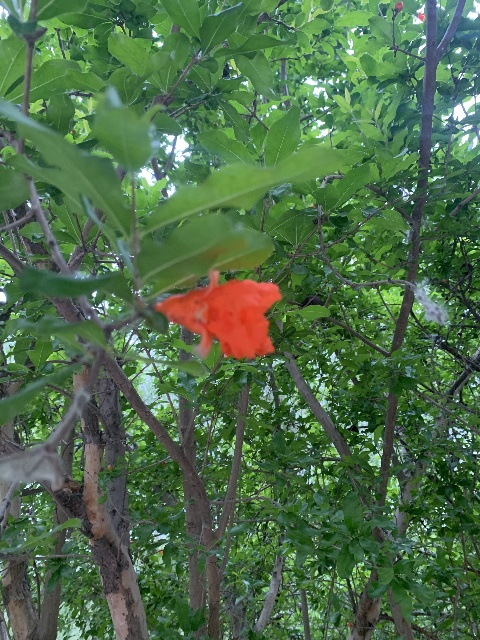bud: (394, 0, 403, 13)
flower: (155, 268, 283, 360), (417, 12, 425, 21)
